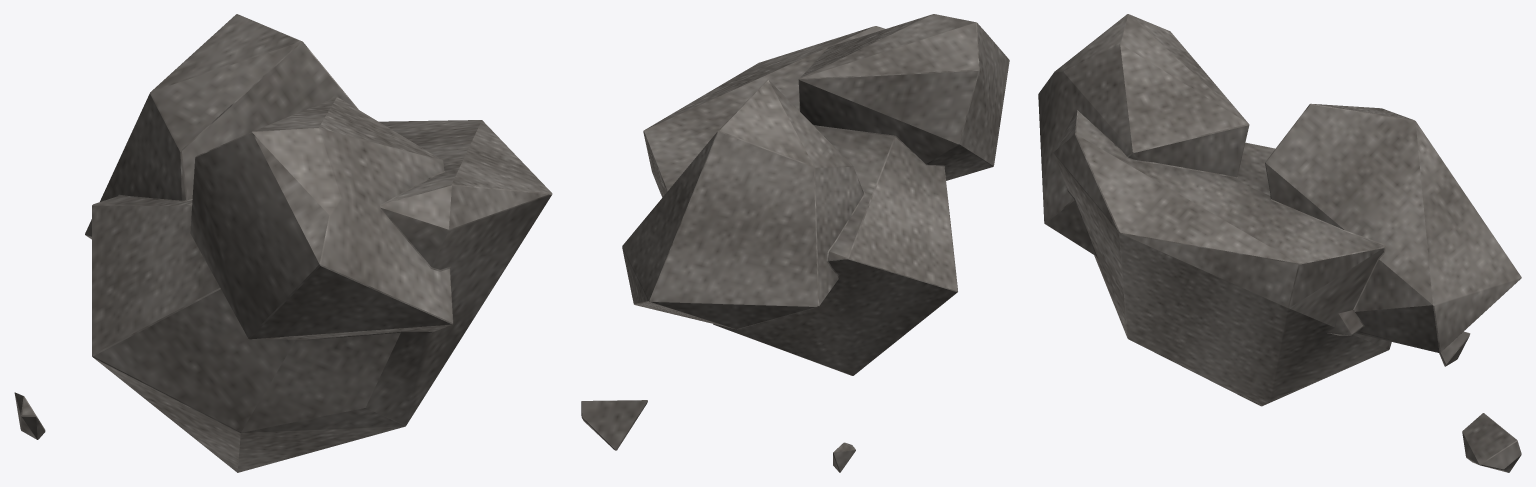
File: boulder_14.glb
3 renders of one model, left to right at view 1: azimuth 30°, elevation 25°; view 2: azimuth 150°, elevation 25°; view 3: azimuth 270°, elevation 25°, orthographic. The views are drawn at different scales.
Parts seen in each view (by area): view 1: boulder_14_c0; view 2: boulder_14_c0; view 3: boulder_14_c0.
Part boxes in pixels (<box>): boulder_14_c0: <box>14,14,552,472</box>; boulder_14_c0: <box>581,14,1009,472</box>; boulder_14_c0: <box>1038,14,1521,472</box>.
Size of the model in its own units: 2.56 by 2.75 by 3.31.
1 material, 1 textured.
